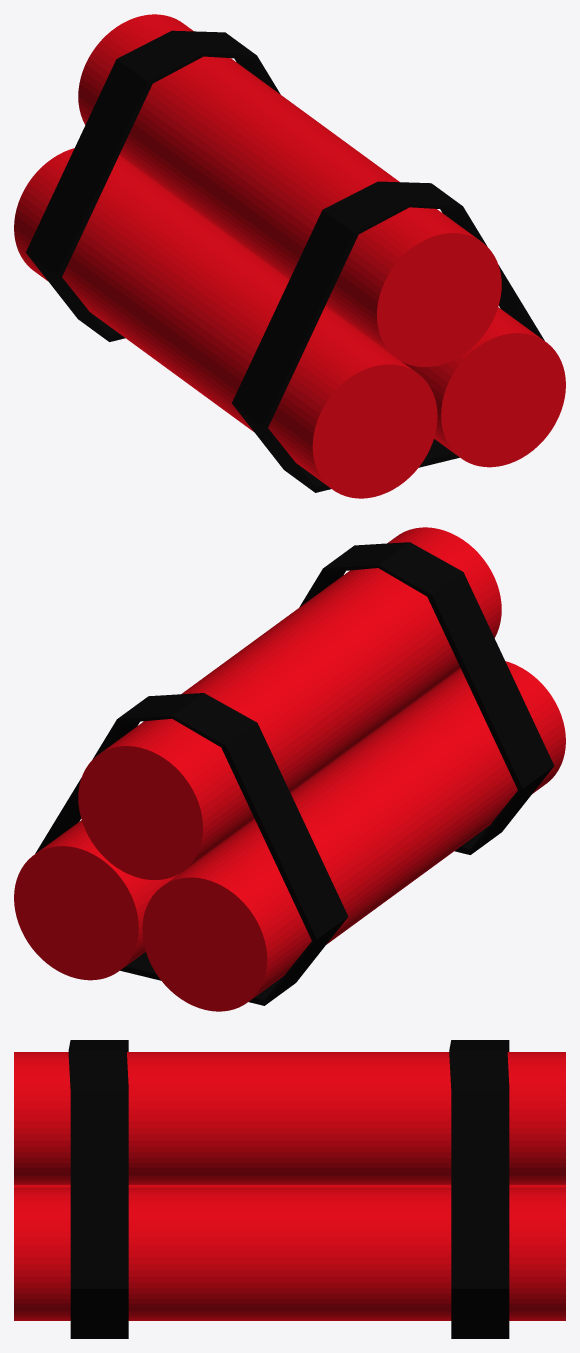
The model's file is dynamite.fbx.
3 views of the same model, one above another, from view 1: azimuth 30°, elevation 25°; view 2: azimuth 150°, elevation 25°; view 3: azimuth 270°, elevation 25° (orthographic). The views are drawn at different scales.
Visible parts, largest first — view 1: Cylinder.002, Cylinder.001, Cylinder, Cube, Cube.003, Cube.004, Cube.005, Cube.001, Cube.002; view 2: Cylinder.002, Cylinder.001, Cylinder, Cube.003, Cube, Cube.001, Cube.002, Cube.004, Cube.005; view 3: Cylinder, Cylinder.002, Cube.004, Cube.001, Cube.002, Cube.005, Cylinder.001, Cube, Cube.003.
Boxes of the visible parts, <box> form: Cylinder.002: <box>78,14,501,366</box>; Cylinder.001: <box>14,148,437,498</box>; Cylinder: <box>401,307,565,467</box>; Cube: <box>25,30,203,277</box>; Cube.003: <box>231,181,409,427</box>; Cube.004: <box>379,181,544,340</box>; Cube.005: <box>233,405,459,492</box>; Cube.001: <box>173,30,280,94</box>; Cube.002: <box>26,253,125,341</box>; Cylinder.002: <box>78,527,501,879</box>; Cylinder.001: <box>142,661,565,1011</box>; Cylinder: <box>14,820,178,980</box>; Cube.003: <box>378,542,554,790</box>; Cube: <box>172,693,348,940</box>; Cube.001: <box>35,693,202,853</box>; Cube.002: <box>120,917,347,1005</box>; Cube.004: <box>299,542,408,607</box>; Cube.005: <box>454,766,553,854</box>; Cylinder: <box>14,1188,565,1320</box>; Cylinder.002: <box>14,1052,565,1184</box>; Cube.004: <box>68,1050,128,1288</box>; Cube.001: <box>449,1050,509,1288</box>; Cube.002: <box>451,1289,509,1338</box>; Cube.005: <box>70,1289,128,1338</box>; Cylinder.001: <box>14,1185,565,1187</box>; Cube: <box>449,1040,509,1051</box>; Cube.003: <box>68,1040,128,1051</box>.
Bounding box in the file's own units: 163 × 143 × 290.
